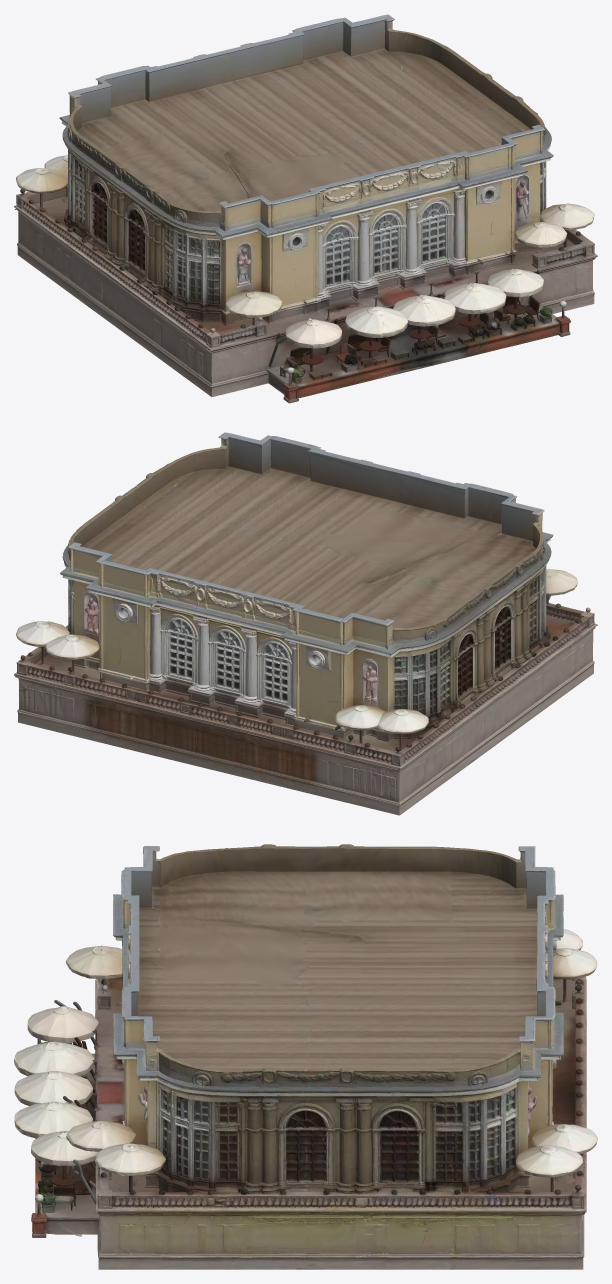
Rendered from House.glb.
The picture shows the model from 3 angles, top to bottom: view 1: azimuth 30°, elevation 25°; view 2: azimuth 150°, elevation 25°; view 3: azimuth 270°, elevation 25°; orthographic projection. The views are drawn at different scales.
Visible parts, largest first — view 1: aiprintgen_0; view 2: aiprintgen_0; view 3: aiprintgen_0.
Part boxes in pixels (x1,y1,x2,y2): aiprintgen_0: (14,14,597,403); aiprintgen_0: (14,432,597,815); aiprintgen_0: (14,844,597,1269).
Bounding box in the file's own units: 1 × 0.399 × 0.9998.
1 material, 1 textured.
